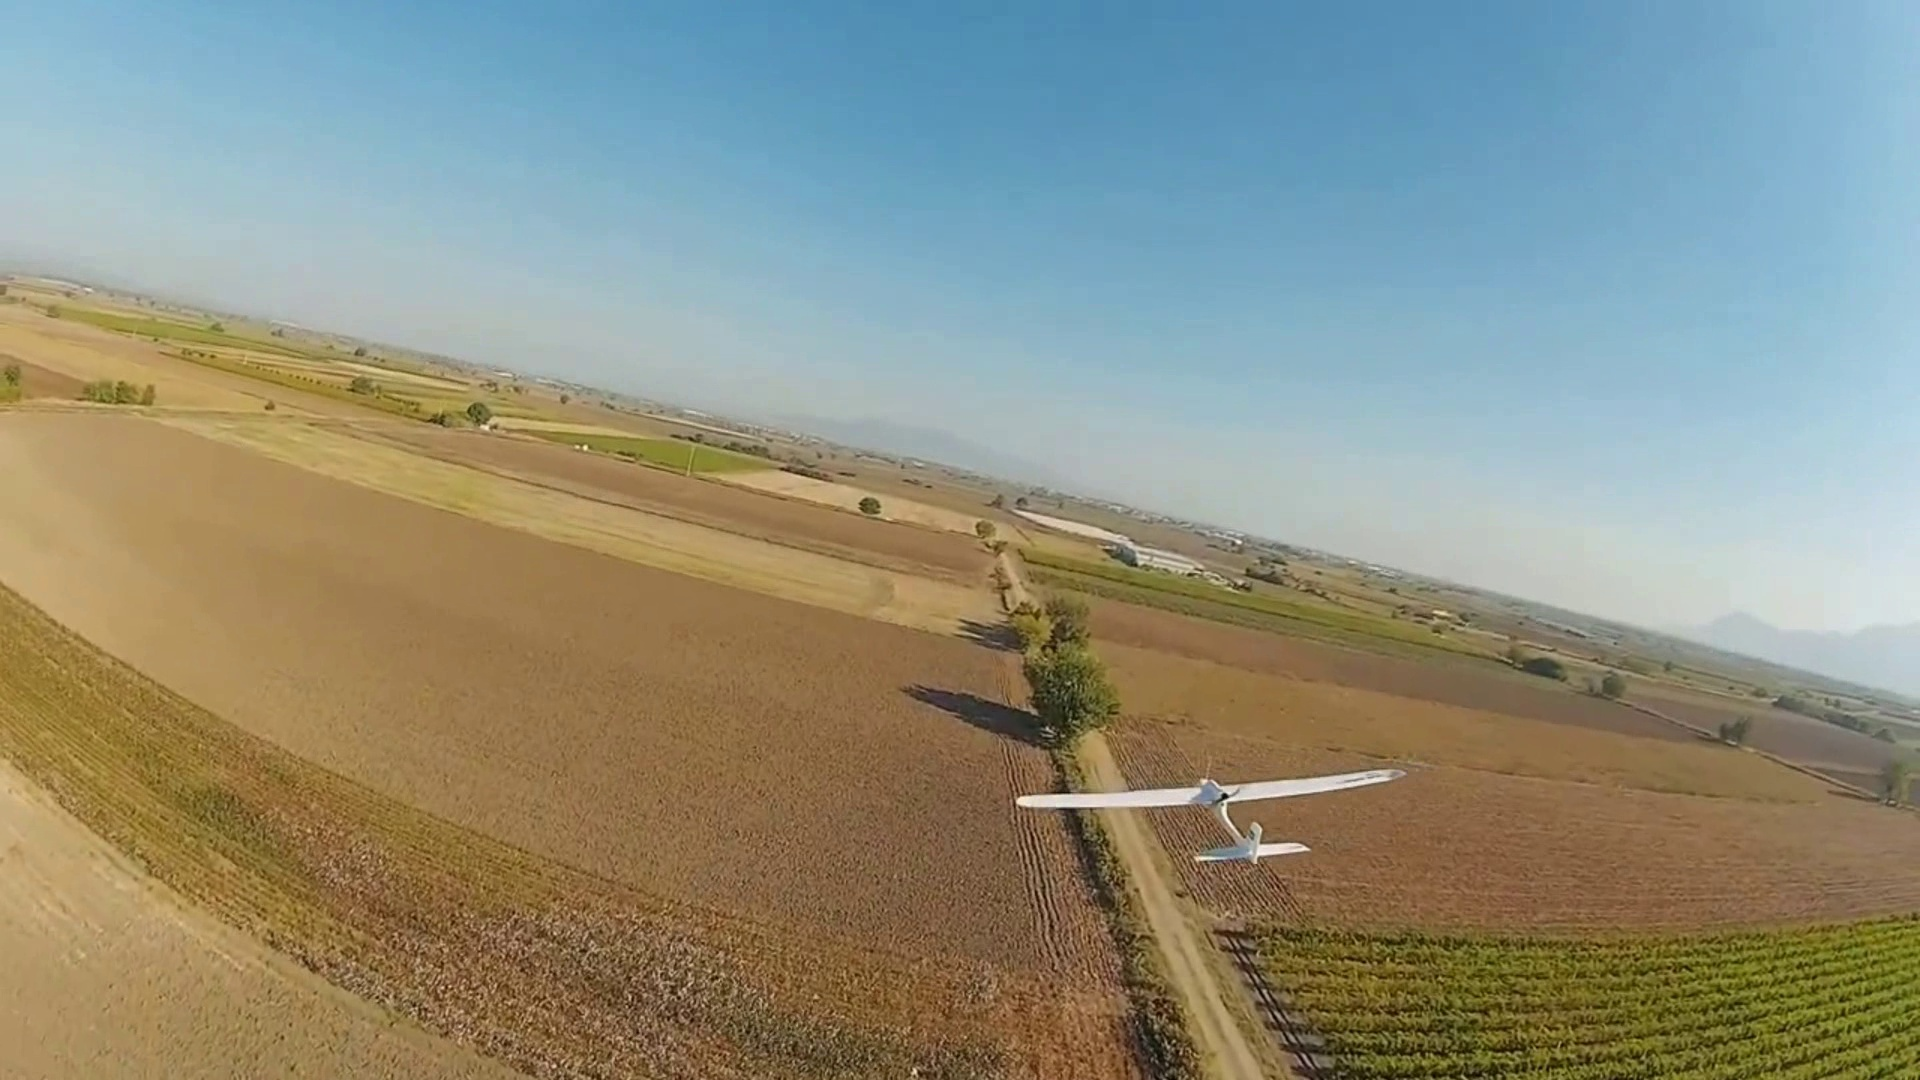airplane: (1012, 762, 1418, 870)
